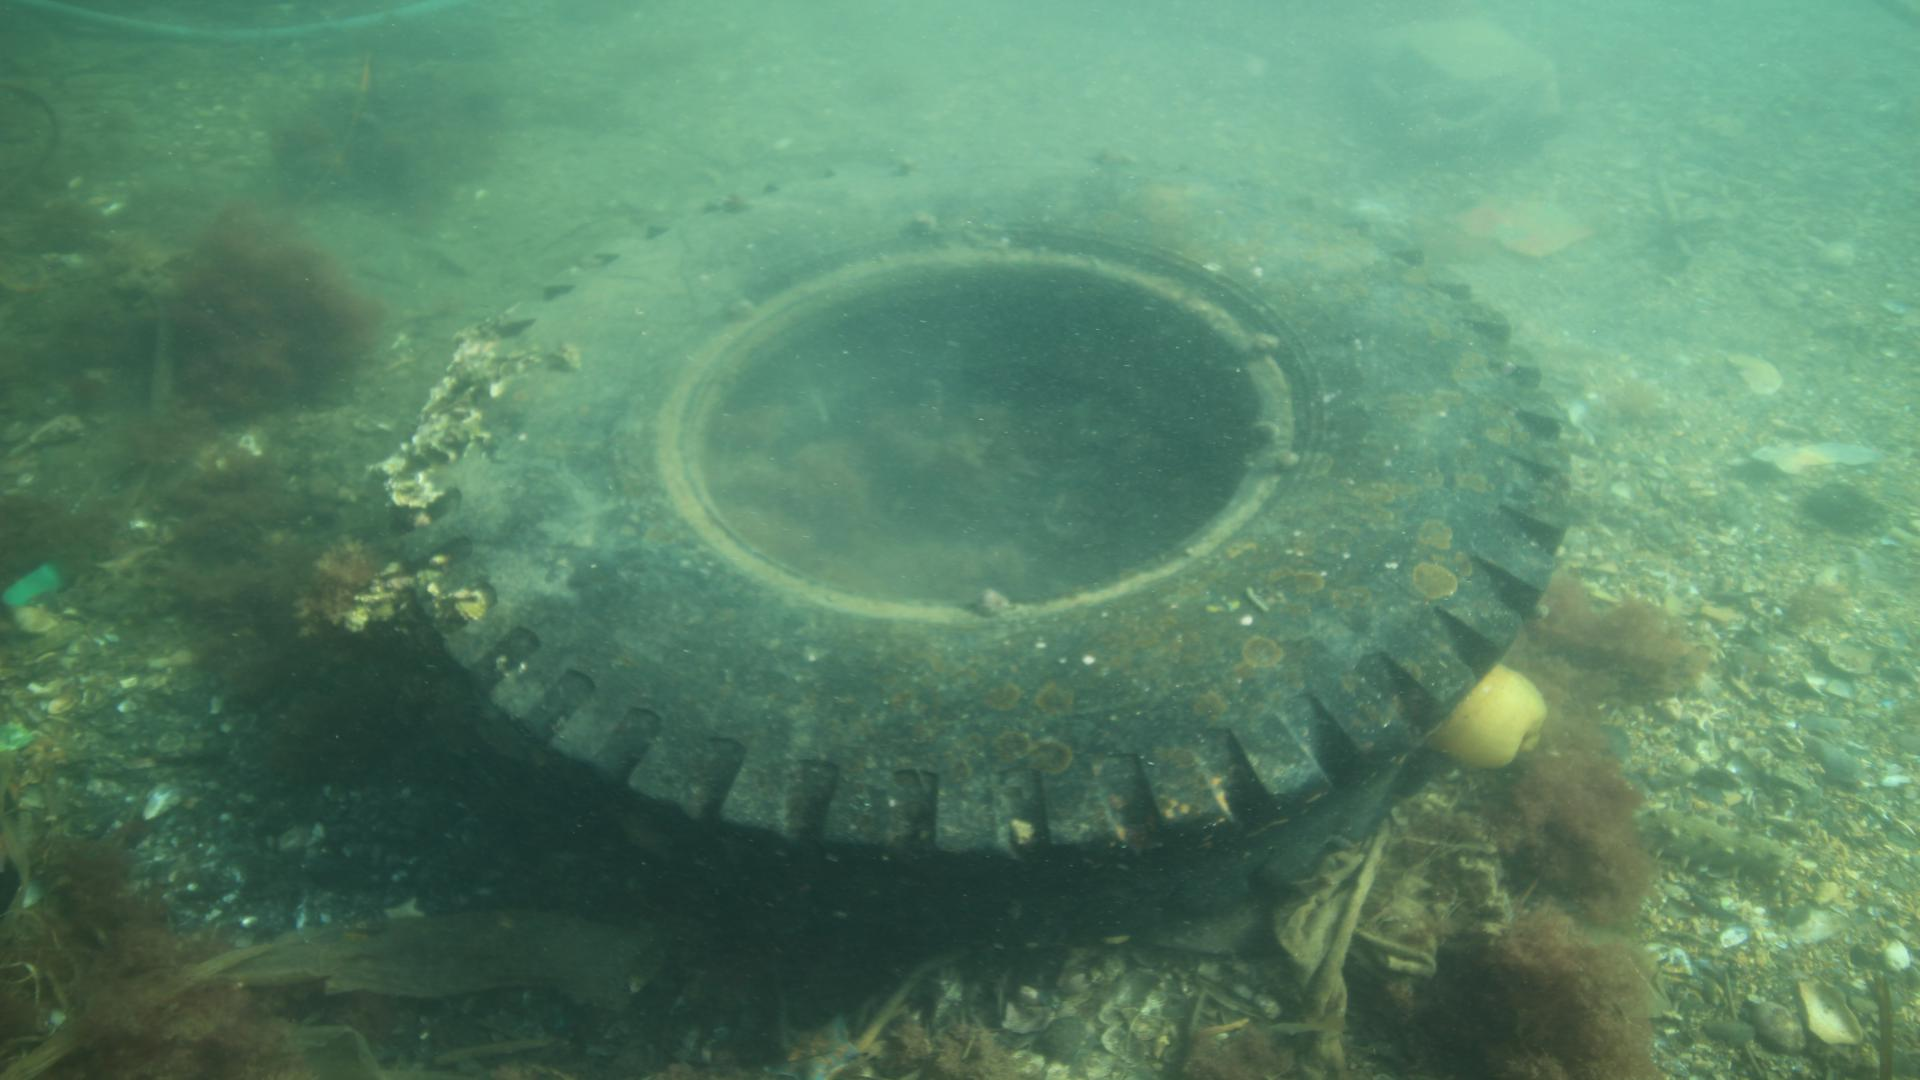tire: (396, 160, 1575, 948)
